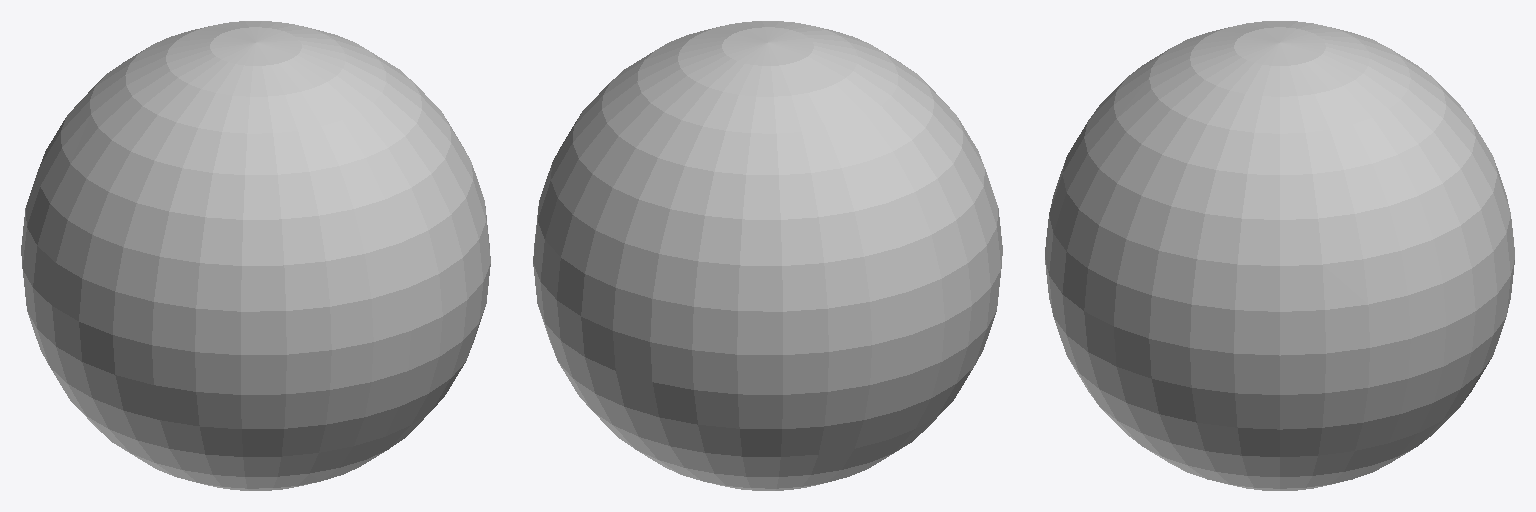
The model's file is trajectory_dot.obj.
The picture shows the model from 3 angles: view 1: azimuth 30°, elevation 25°; view 2: azimuth 150°, elevation 25°; view 3: azimuth 270°, elevation 25°; orthographic projection.
Parts seen in each view (by area): view 1: Sphere; view 2: Sphere; view 3: Sphere.
Boxes of the visible parts, box(x1,y1,x2,y2) form: Sphere: box(21, 21, 490, 490); Sphere: box(533, 21, 1002, 490); Sphere: box(1045, 21, 1514, 490).
Bounding box in the file's own units: 0.1 × 0.1 × 0.1.